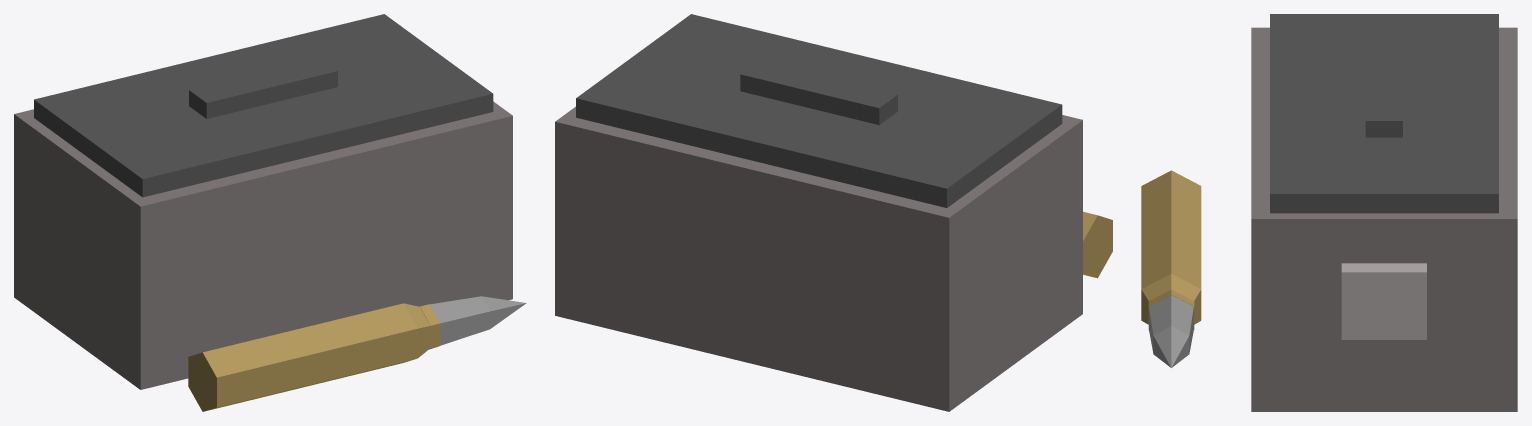
The model's file is ce_ammo_light_ap_c.obj.
The picture shows the model from 3 angles, left to right: view 1: azimuth 30°, elevation 25°; view 2: azimuth 150°, elevation 25°; view 3: azimuth 270°, elevation 25°; orthographic projection. The views are drawn at different scales.
Visible parts, largest first — view 1: ce_ammo_light_ap_c_0, ce_ammo_light_ap_c_1, ce_ammo_light_ap_c_4, ce_ammo_light_ap_c_2, ce_ammo_light_ap_c_7, ce_ammo_light_ap_c_8, ce_ammo_light_ap_c_5, ce_ammo_light_ap_c_6; view 2: ce_ammo_light_ap_c_0, ce_ammo_light_ap_c_1, ce_ammo_light_ap_c_2, ce_ammo_light_ap_c_4; view 3: ce_ammo_light_ap_c_0, ce_ammo_light_ap_c_1, ce_ammo_light_ap_c_3, ce_ammo_light_ap_c_4, ce_ammo_light_ap_c_2, ce_ammo_light_ap_c_7, ce_ammo_light_ap_c_5, ce_ammo_light_ap_c_8.
Part boxes in pixels (x1=…): ce_ammo_light_ap_c_0: x1=14, y1=101, x2=512, y2=389; ce_ammo_light_ap_c_1: x1=34, y1=14, x2=493, y2=197; ce_ammo_light_ap_c_4: x1=188, y1=303, x2=417, y2=411; ce_ammo_light_ap_c_2: x1=189, y1=58, x2=337, y2=118; ce_ammo_light_ap_c_7: x1=430, y1=296, x2=489, y2=345; ce_ammo_light_ap_c_8: x1=481, y1=296, x2=526, y2=328; ce_ammo_light_ap_c_5: x1=404, y1=303, x2=430, y2=357; ce_ammo_light_ap_c_6: x1=420, y1=304, x2=440, y2=349; ce_ammo_light_ap_c_0: x1=555, y1=106, x2=1082, y2=411; ce_ammo_light_ap_c_1: x1=576, y1=14, x2=1062, y2=207; ce_ammo_light_ap_c_2: x1=740, y1=60, x2=897, y2=124; ce_ammo_light_ap_c_4: x1=1083, y1=211, x2=1112, y2=278; ce_ammo_light_ap_c_0: x1=1251, y1=27, x2=1517, y2=411; ce_ammo_light_ap_c_1: x1=1270, y1=14, x2=1498, y2=213; ce_ammo_light_ap_c_3: x1=1341, y1=263, x2=1426, y2=339; ce_ammo_light_ap_c_4: x1=1141, y1=170, x2=1201, y2=288; ce_ammo_light_ap_c_2: x1=1365, y1=53, x2=1402, y2=137; ce_ammo_light_ap_c_7: x1=1149, y1=295, x2=1193, y2=353; ce_ammo_light_ap_c_5: x1=1141, y1=273, x2=1201, y2=324; ce_ammo_light_ap_c_8: x1=1153, y1=326, x2=1189, y2=367.
Bounding box in the file's own units: 0.89 × 0.475 × 0.7063.
